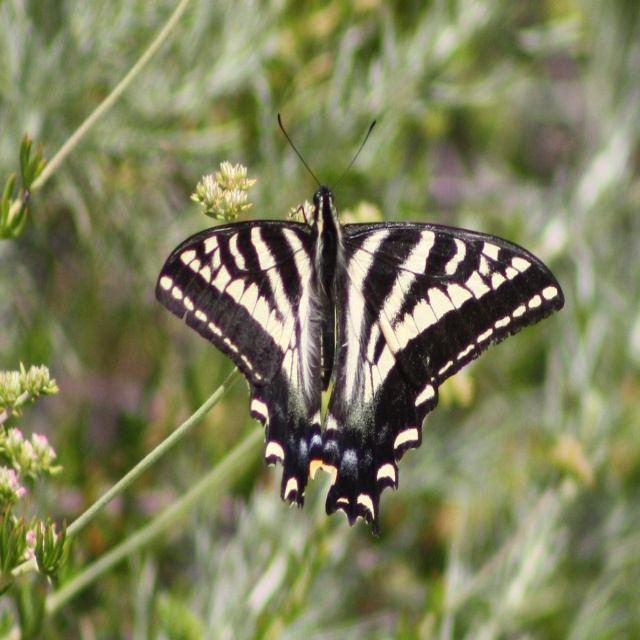Butterfly: (155, 113, 565, 539)
